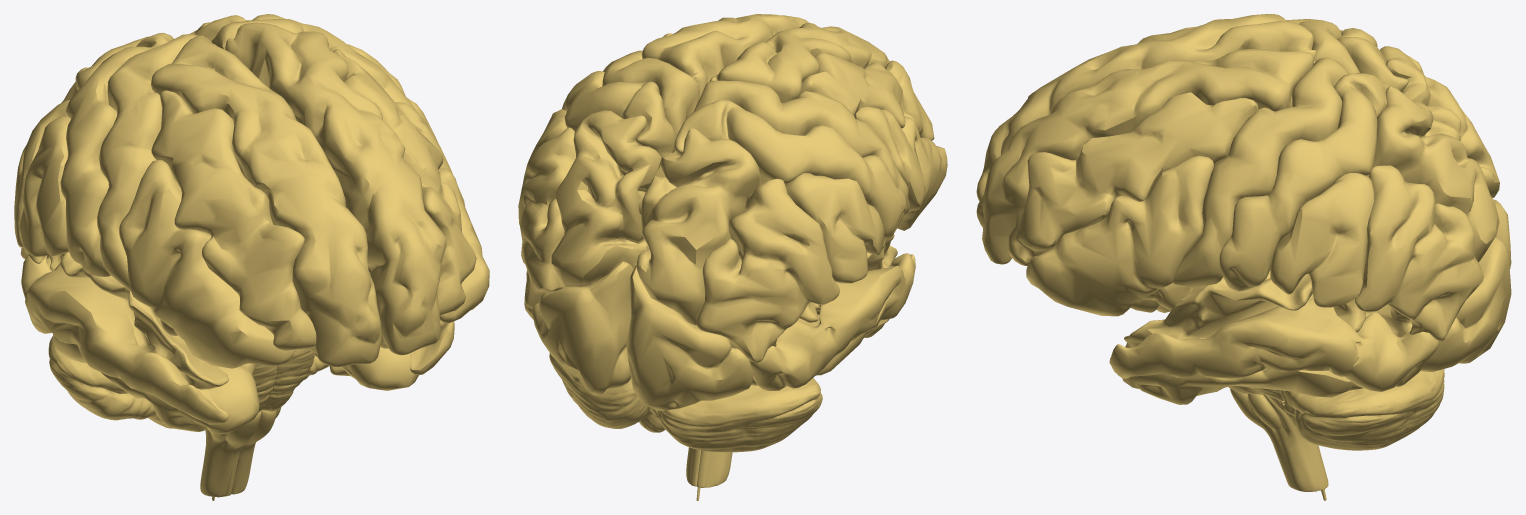
The model's file is nervous.glb.
The picture shows the model from 3 angles, left to right: view 1: azimuth 30°, elevation 25°; view 2: azimuth 150°, elevation 25°; view 3: azimuth 270°, elevation 25°; orthographic projection. The views are drawn at different scales.
Parts seen in each view (by area): view 1: brain; view 2: brain; view 3: brain.
Boxes of the visible parts, box(x1,y1,x2,y2) form: brain: box(14, 14, 489, 497); brain: box(518, 14, 947, 487); brain: box(976, 14, 1511, 491).
Size of the model in its own units: 0.2777 by 0.3437 by 0.36.
